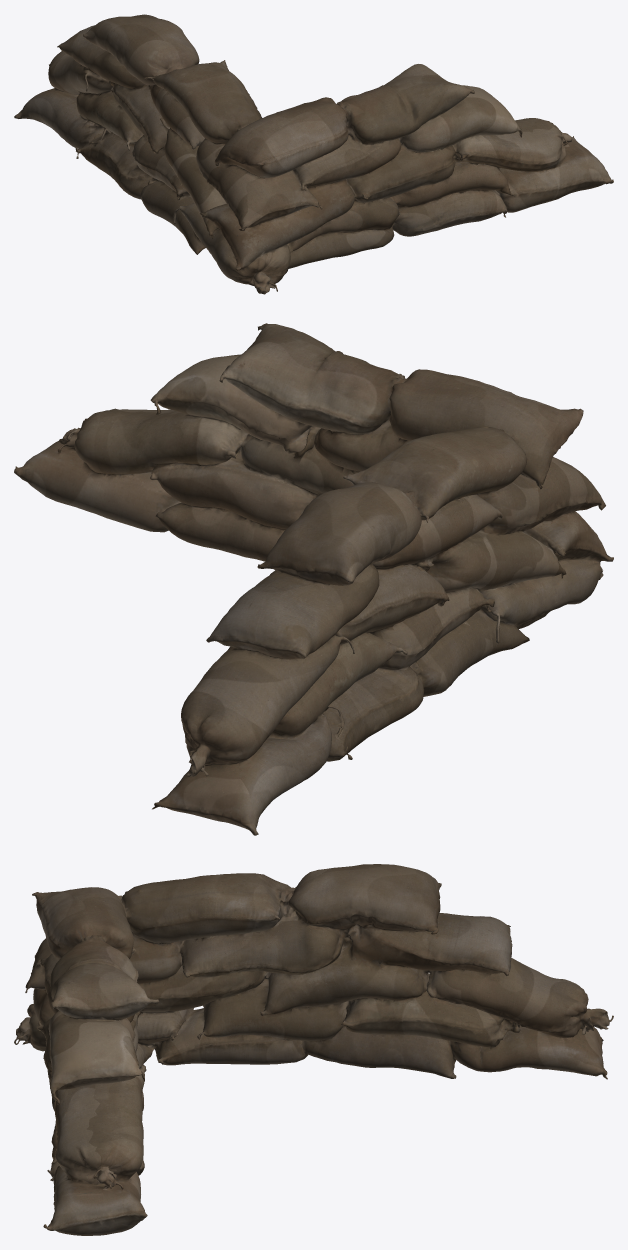
Rendered from sandbags_corner_ready_for_unreal_engine.glb.
The picture shows the model from 3 angles, top to bottom: view 1: azimuth 30°, elevation 25°; view 2: azimuth 150°, elevation 25°; view 3: azimuth 270°, elevation 25°; orthographic projection. The views are drawn at different scales.
Parts seen in each view (by area): view 1: Aset_street_barrier_L_udtvadqfa_LOD0; view 2: Aset_street_barrier_L_udtvadqfa_LOD0; view 3: Aset_street_barrier_L_udtvadqfa_LOD0.
Boxes of the visible parts, x1,y1,x2,y2 form: Aset_street_barrier_L_udtvadqfa_LOD0: [14, 14, 613, 294]; Aset_street_barrier_L_udtvadqfa_LOD0: [14, 323, 613, 835]; Aset_street_barrier_L_udtvadqfa_LOD0: [14, 864, 613, 1235].
Size of the model in its own units: 1.5 by 0.5982 by 1.71.
Materials: 1 (1 with a texture image).
